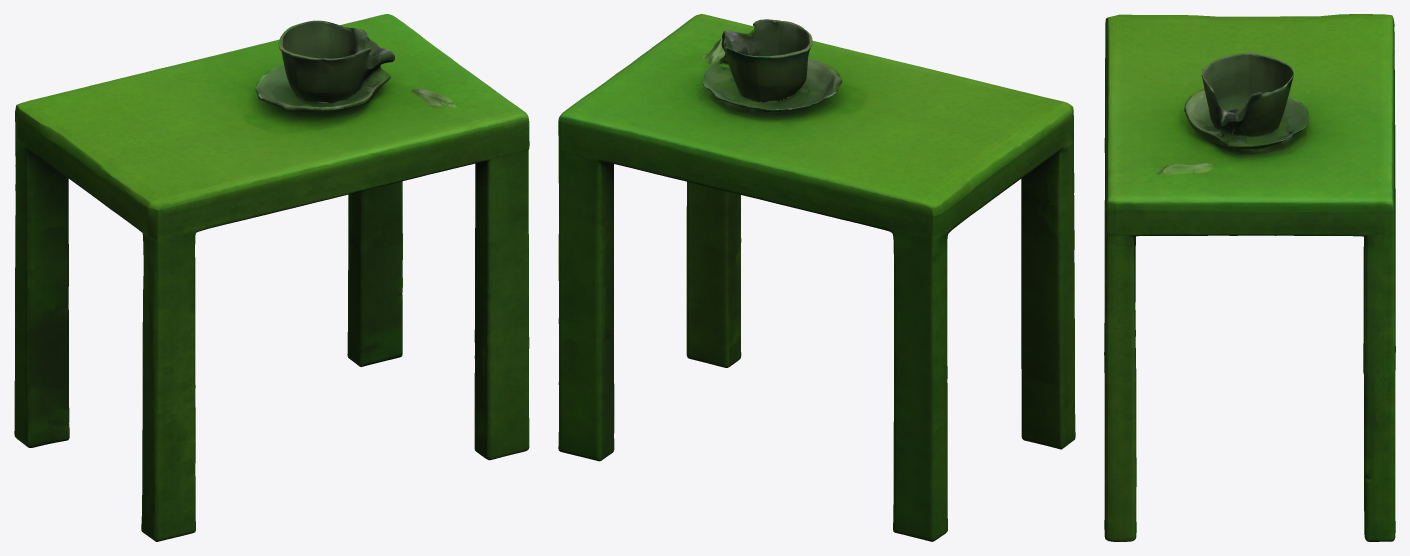
Rendered from moss.glb.
3 renders of one model, left to right at view 1: azimuth 30°, elevation 25°; view 2: azimuth 150°, elevation 25°; view 3: azimuth 270°, elevation 25°, orthographic.
Parts seen in each view (by area): view 1: world; view 2: world; view 3: world.
Part boxes in pixels (bbox=[...]): world: bbox=[14, 14, 529, 541]; world: bbox=[558, 14, 1075, 541]; world: bbox=[1104, 14, 1395, 541].
Size of the model in its own units: 0.9996 by 0.9957 by 0.6522.
1 material, 1 textured.
